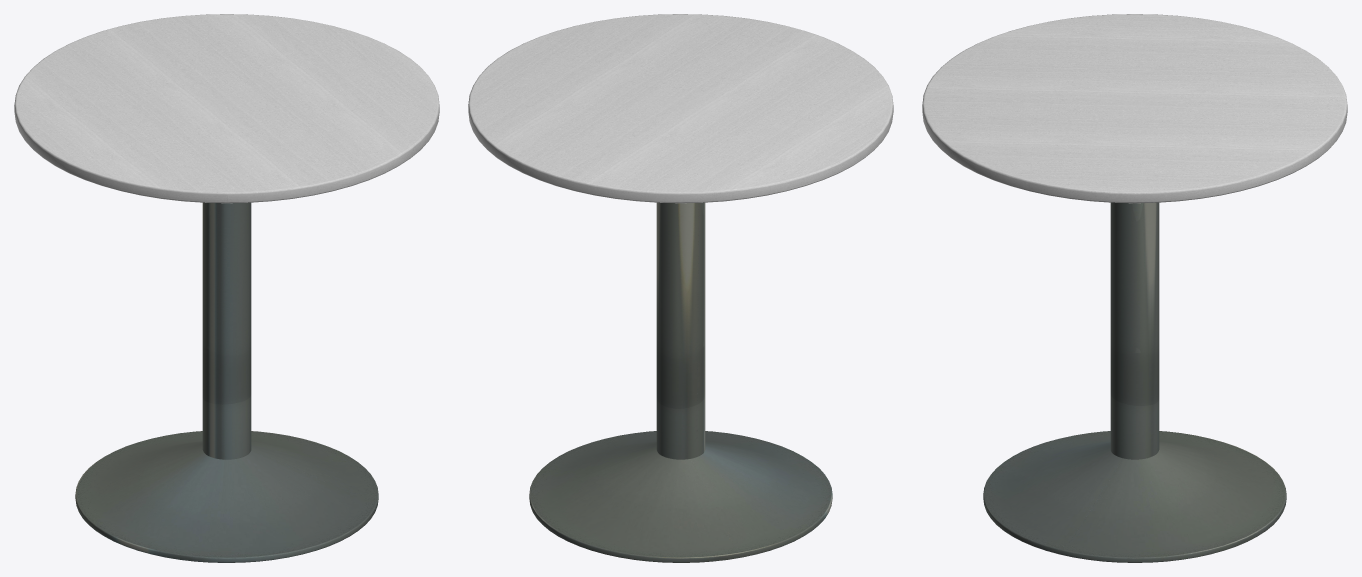
Rendered from fermo_70_edelstahlfarben_60_black_laquered_metal.glb.
3 renders of one model, left to right at view 1: azimuth 30°, elevation 25°; view 2: azimuth 150°, elevation 25°; view 3: azimuth 270°, elevation 25°, orthographic.
Visible parts, largest first — view 1: fermo_70_edelstahlfarben_o70-white; view 2: fermo_70_edelstahlfarben_o70-white; view 3: fermo_70_edelstahlfarben_o70-white.
Boxes of the visible parts, <box> form: fermo_70_edelstahlfarben_o70-white: <box>14,14,439,562</box>; fermo_70_edelstahlfarben_o70-white: <box>468,14,893,562</box>; fermo_70_edelstahlfarben_o70-white: <box>922,14,1347,562</box>.
Size of the model in its own units: 0.7009 by 0.7206 by 0.7009.
Materials: 1 (1 with a texture image).
